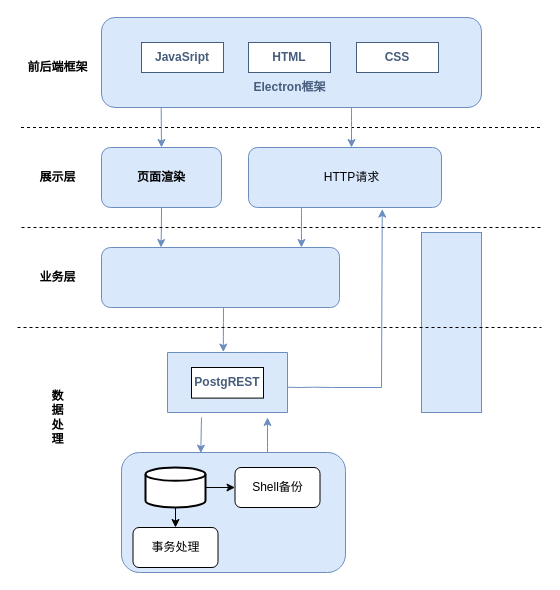
Image size: 560x590. Some labels were removed from this diagram. The shapes that lost their labels are listed below. From the top down, each one's centre as x and y in pixels, then its label:
At [220,277]: "数据增删改查".
At [451,322]: "数 据 安 全 和 日 志 记 录".
At [175,487]: "Postgres".
